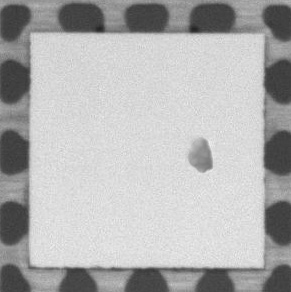DIE_INK: (180, 131, 216, 178)
